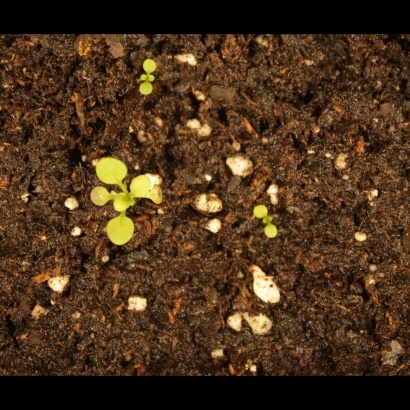leaf: (104, 208, 140, 251), (243, 191, 278, 225), (80, 181, 117, 211), (93, 156, 130, 185), (124, 171, 155, 203), (254, 216, 288, 243), (131, 78, 164, 105), (142, 183, 170, 210), (135, 51, 159, 78)
